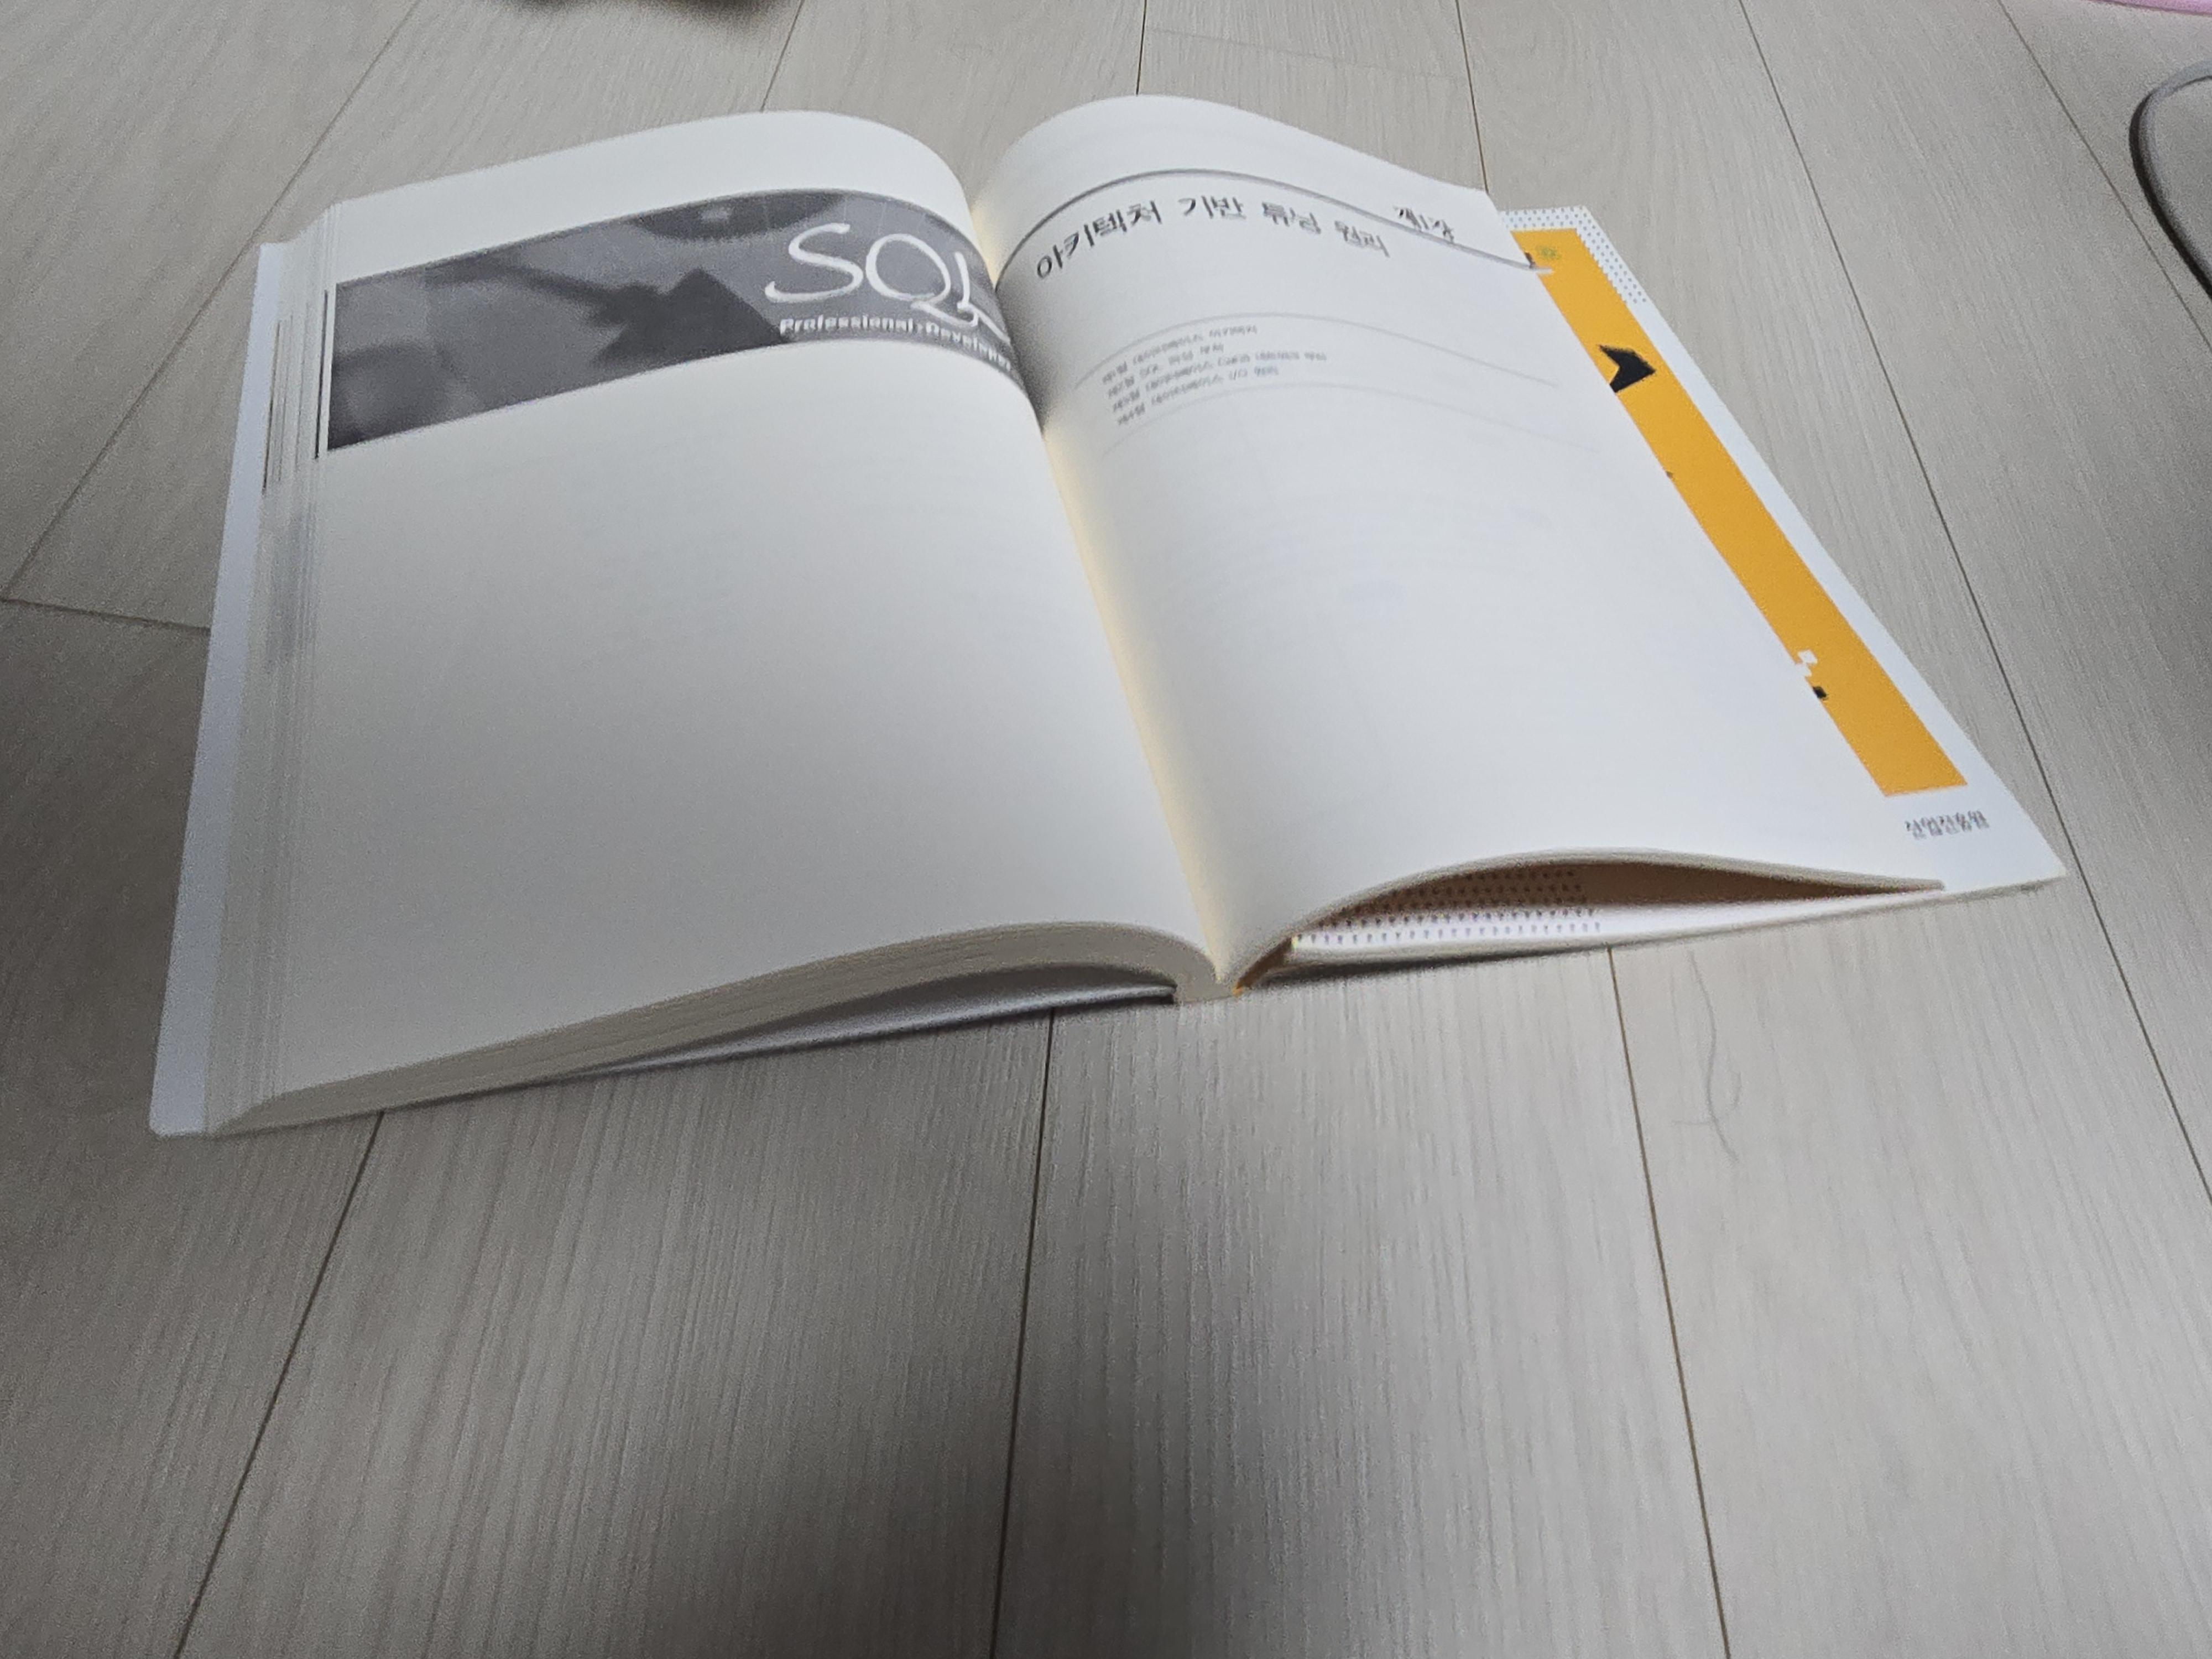book: (146, 91, 2067, 1140)
